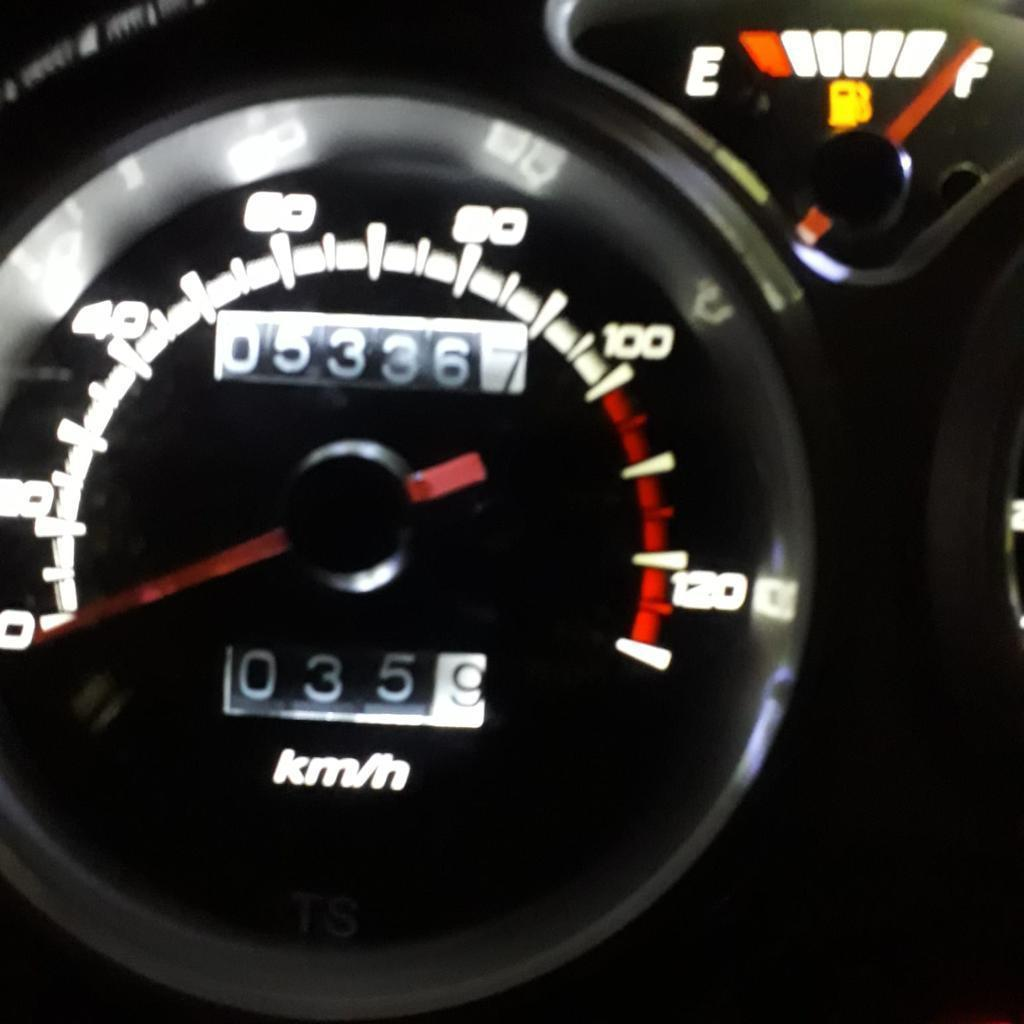0: (223, 320, 261, 375)
3: (326, 327, 367, 380), (379, 333, 419, 384)
5: (272, 322, 315, 375)
6: (432, 336, 471, 389)
7: (490, 346, 522, 394)
odometer: (210, 305, 534, 401)
